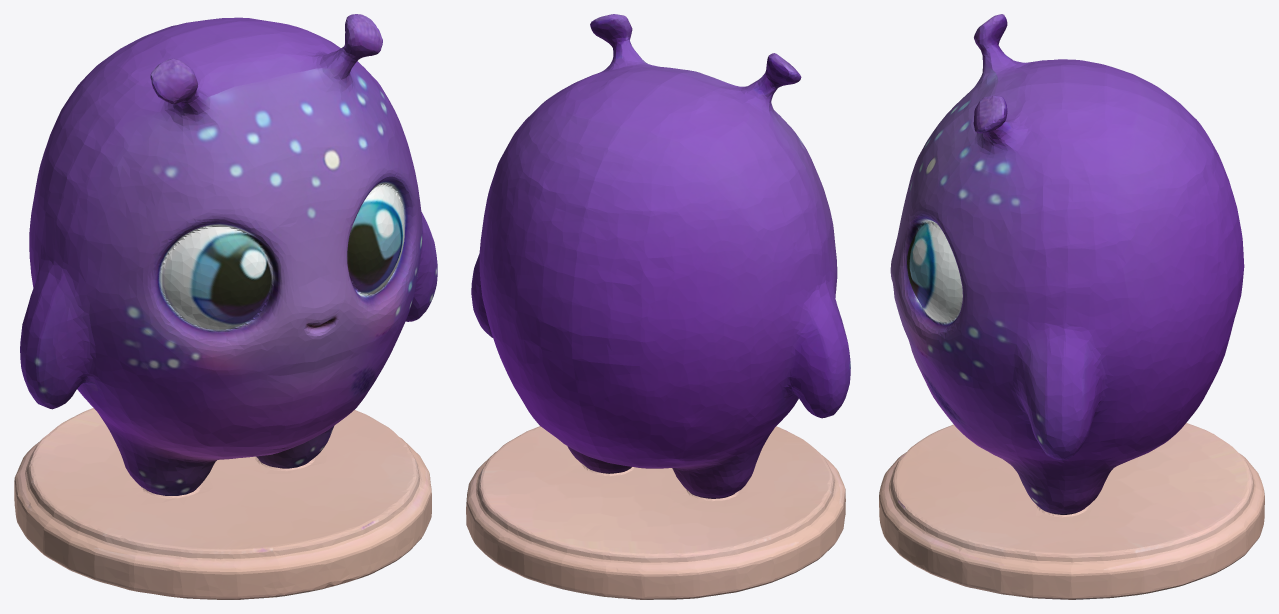
The model's file is fig-14.glb.
3 views of the same model, side by side, from view 1: azimuth 30°, elevation 25°; view 2: azimuth 150°, elevation 25°; view 3: azimuth 270°, elevation 25° (orthographic). The views are drawn at different scales.
Parts seen in each view (by area): view 1: tmp6vnku99d.ply; view 2: tmp6vnku99d.ply; view 3: tmp6vnku99d.ply.
Boxes of the visible parts, x1,y1,x2,y2 form: tmp6vnku99d.ply: (14, 14, 437, 599); tmp6vnku99d.ply: (466, 14, 850, 599); tmp6vnku99d.ply: (879, 14, 1264, 599).
Bounding box in the file's own units: 1.65 × 1.96 × 1.47.
1 material, 1 textured.
